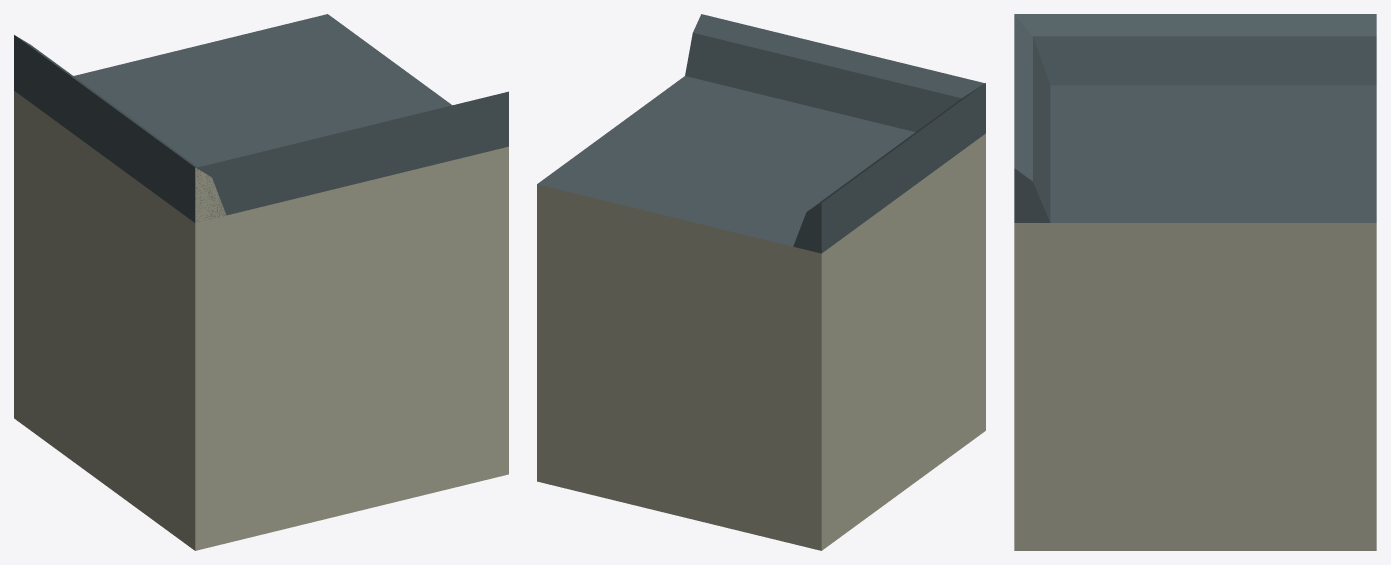
Rendered from CornerCounterV1.fbx.
The picture shows the model from 3 angles, left to right: view 1: azimuth 30°, elevation 25°; view 2: azimuth 150°, elevation 25°; view 3: azimuth 270°, elevation 25°; orthographic projection. The views are drawn at different scales.
Parts seen in each view (by area): view 1: Cube; view 2: Cube; view 3: Cube.
Boxes of the visible parts, x1,y1,x2,y2 form: Cube: (14,14,508,550); Cube: (537,14,985,550); Cube: (1014,14,1376,550).
Bounding box in the file's own units: 515 × 515 × 601.
